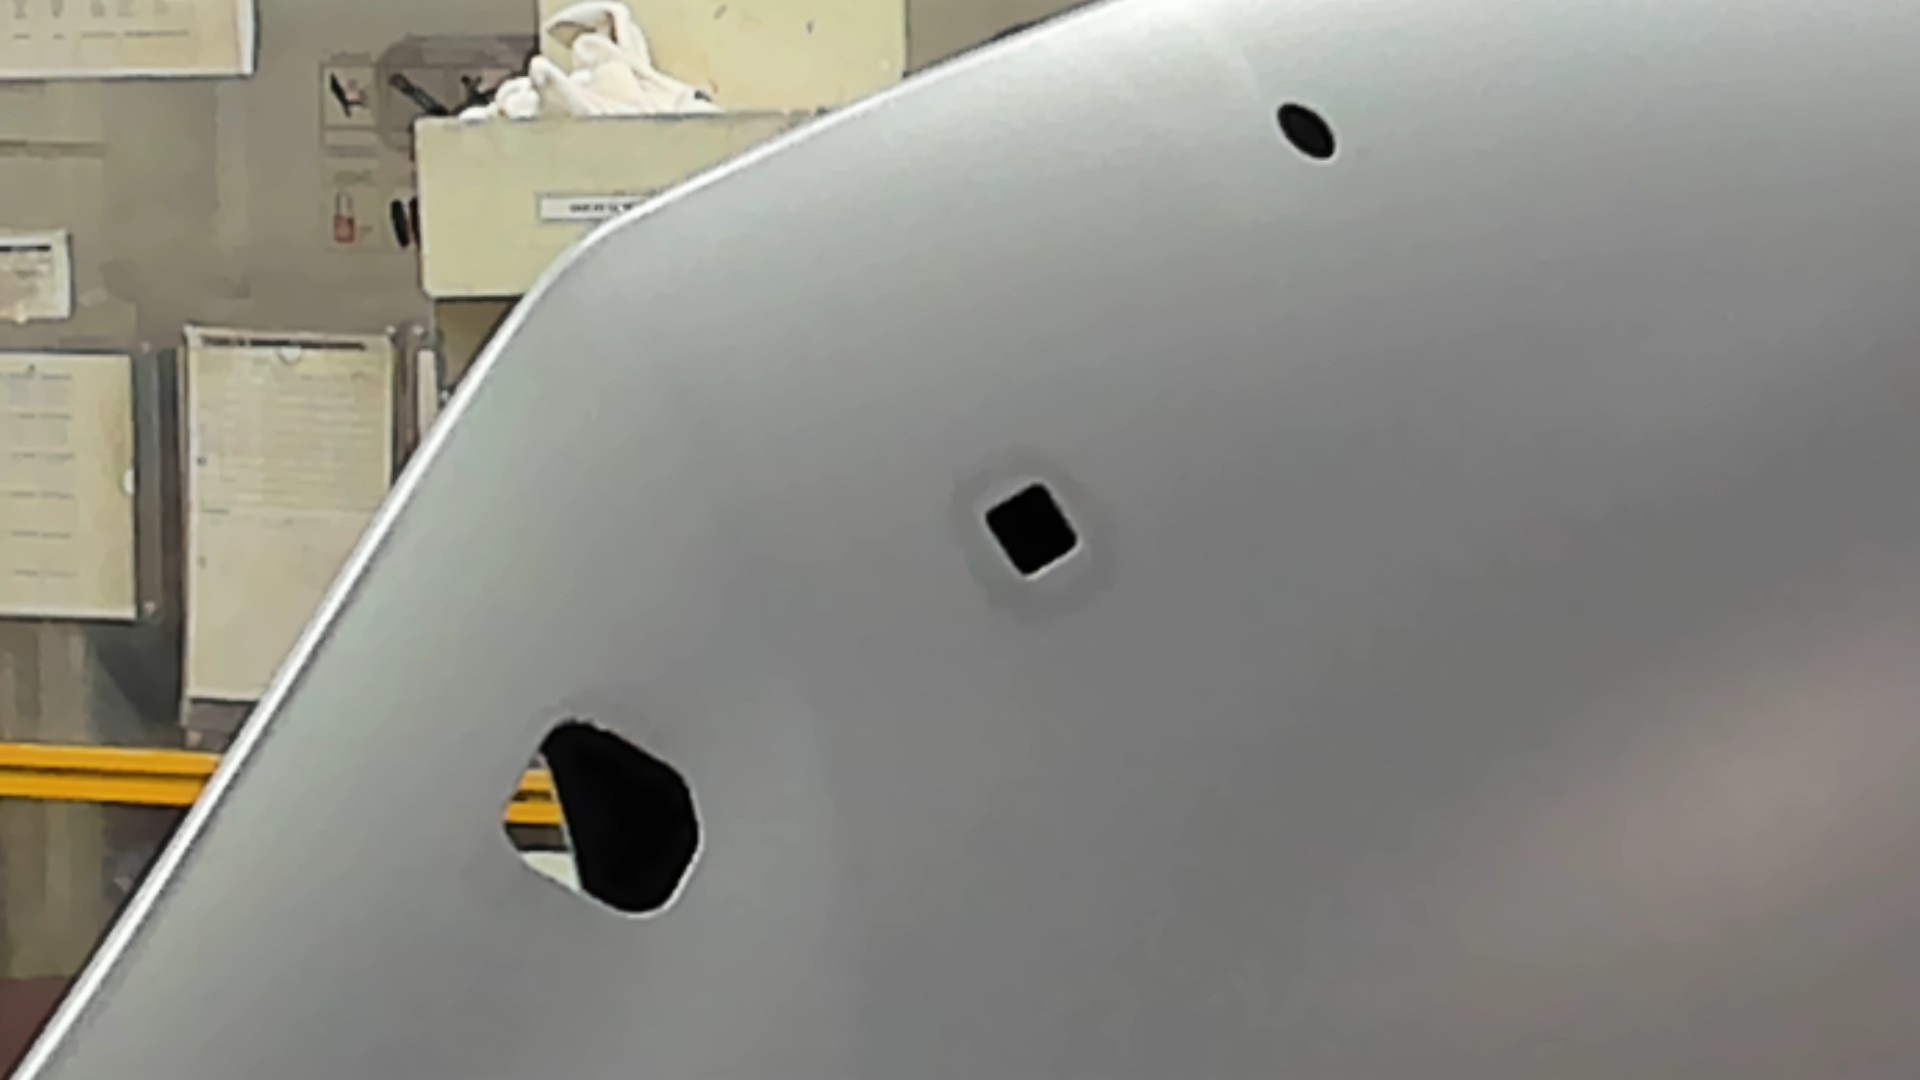chico: (1271, 102, 1341, 164)
grande: (495, 717, 707, 922)
mediano: (982, 479, 1083, 579)
